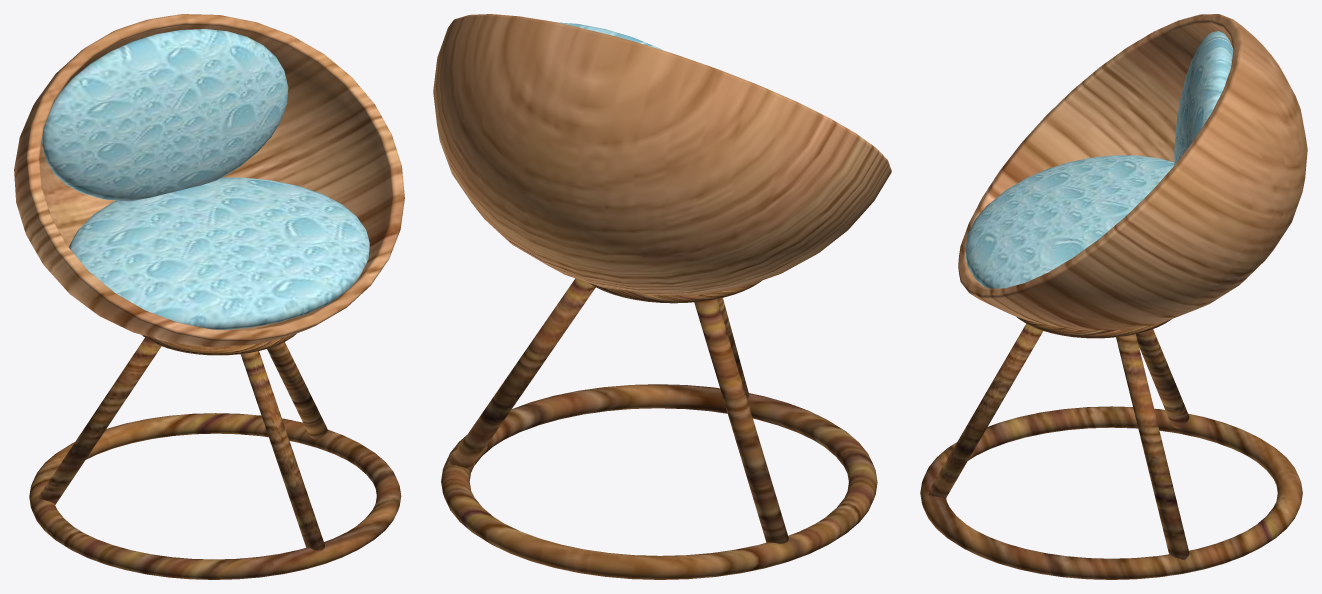
3 views of the same model, side by side, from view 1: azimuth 30°, elevation 25°; view 2: azimuth 150°, elevation 25°; view 3: azimuth 270°, elevation 25° (orthographic). The views are drawn at different scales.
Parts seen in each view (by area): view 1: Mesh_0, Mesh_1, Mesh_2, Mesh_5, Mesh_7, Mesh_4, Mesh_3, Mesh_6; view 2: Mesh_0, Mesh_5, Mesh_4, Mesh_3, Mesh_6; view 3: Mesh_0, Mesh_5, Mesh_1, Mesh_3, Mesh_2, Mesh_7, Mesh_4, Mesh_6.
Part boxes in pixels (x1,y1,x2,y2): Mesh_0: (14, 14, 404, 347); Mesh_1: (69, 177, 369, 329); Mesh_2: (42, 29, 288, 201); Mesh_5: (29, 413, 401, 579); Mesh_7: (240, 351, 324, 550); Mesh_4: (38, 338, 161, 504); Mesh_3: (267, 342, 328, 439); Mesh_6: (142, 333, 296, 355); Mesh_0: (433, 14, 891, 295); Mesh_5: (441, 384, 877, 579); Mesh_4: (694, 299, 788, 543); Mesh_3: (448, 278, 595, 469); Mesh_6: (589, 280, 761, 303); Mesh_0: (958, 14, 1307, 330); Mesh_5: (920, 406, 1302, 579); Mesh_1: (965, 155, 1174, 288); Mesh_3: (1116, 334, 1189, 559); Mesh_2: (1174, 31, 1233, 165); Mesh_7: (927, 324, 1043, 498); Mesh_4: (1136, 329, 1189, 428); Mesh_6: (1016, 316, 1171, 338).
Bounding box in the file's own units: 0.6657 × 0.7957 × 0.6131.
3 materials, 3 textured.
